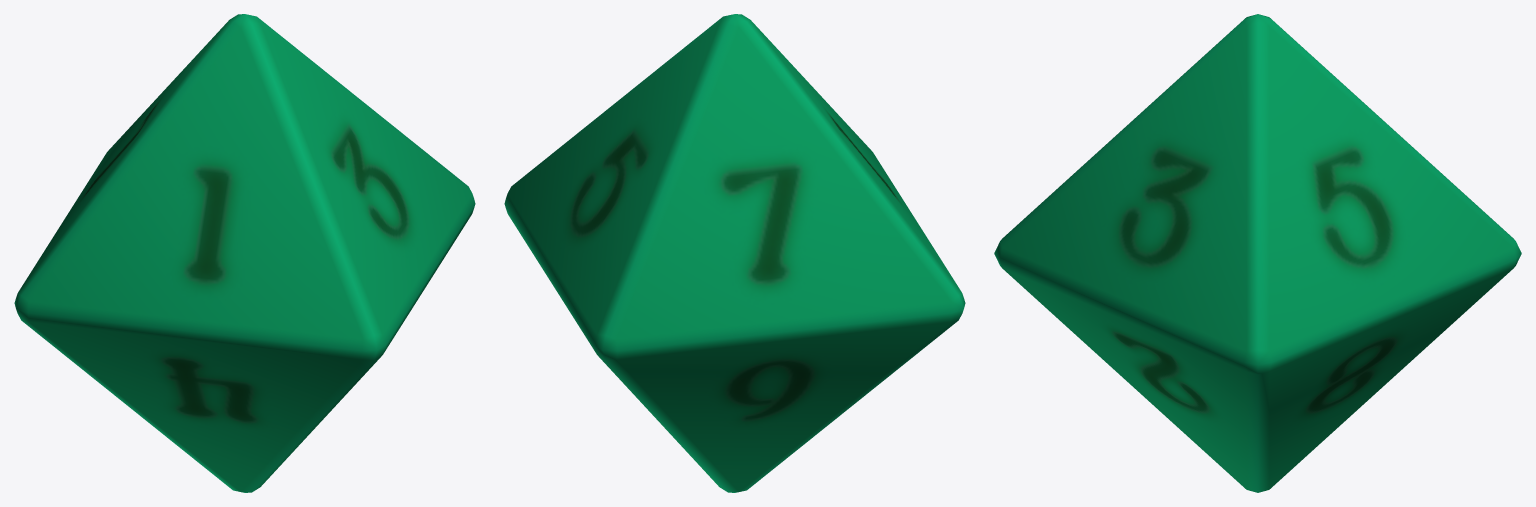
Rendered from d8-green.glb.
The picture shows the model from 3 angles, left to right: view 1: azimuth 30°, elevation 25°; view 2: azimuth 150°, elevation 25°; view 3: azimuth 270°, elevation 25°; orthographic projection.
Visible parts, largest first — view 1: D8_green; view 2: D8_green; view 3: D8_green.
Boxes of the visible parts, box(x1,y1,x2,y2) form: D8_green: box(14, 14, 475, 492); D8_green: box(504, 14, 965, 492); D8_green: box(994, 14, 1521, 492).
Size of the model in its own units: 1 by 1 by 1.
Materials: 1 (1 with a texture image).
